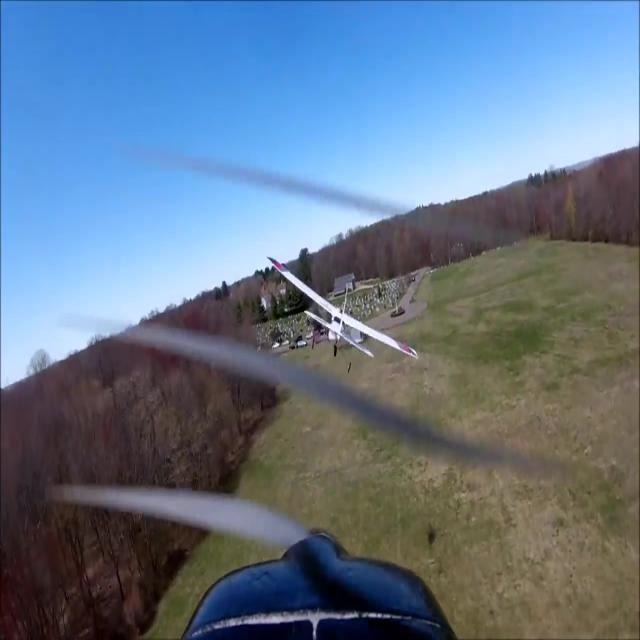iha: (266, 285, 419, 345)
